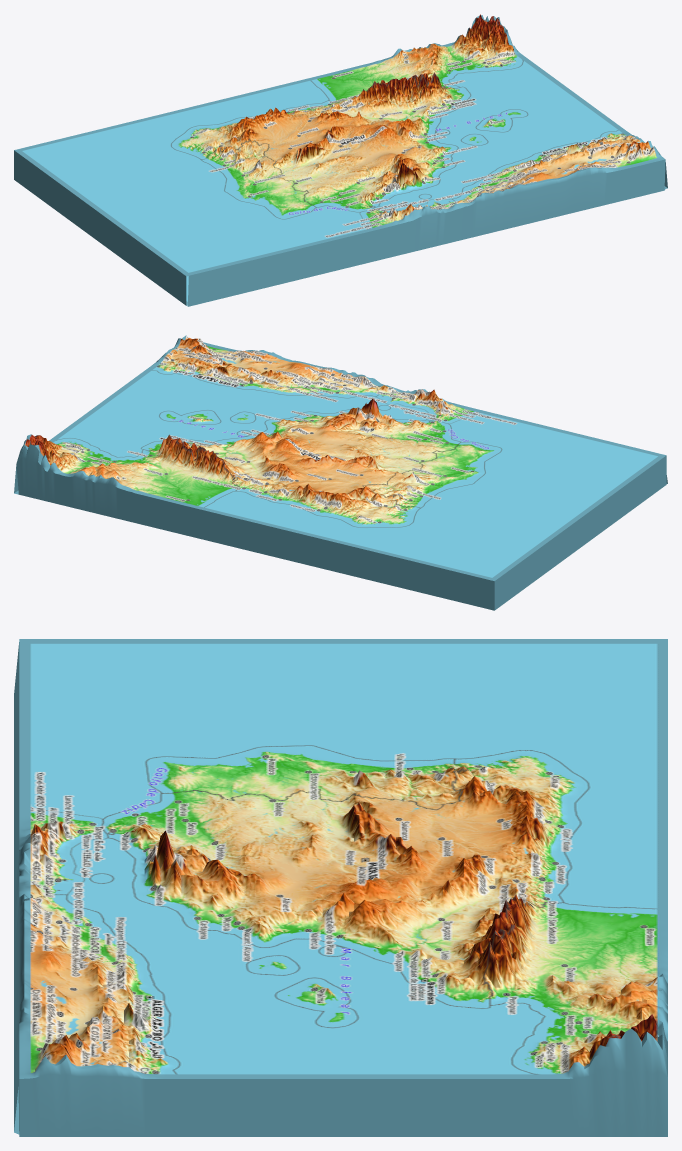
File: spain.glb
3 renders of one model, top to bottom at view 1: azimuth 30°, elevation 25°; view 2: azimuth 150°, elevation 25°; view 3: azimuth 270°, elevation 25°, orthographic. The views are drawn at different scales.
Parts seen in each view (by area): view 1: Object_2; view 2: Object_2; view 3: Object_2.
Part boxes in pixels (bbox=[...]): Object_2: bbox=[14, 14, 667, 306]; Object_2: bbox=[14, 335, 667, 610]; Object_2: bbox=[14, 639, 667, 1136].
Size of the model in its own units: 52.92 by 5.88 by 33.07.
1 material, 1 textured.
